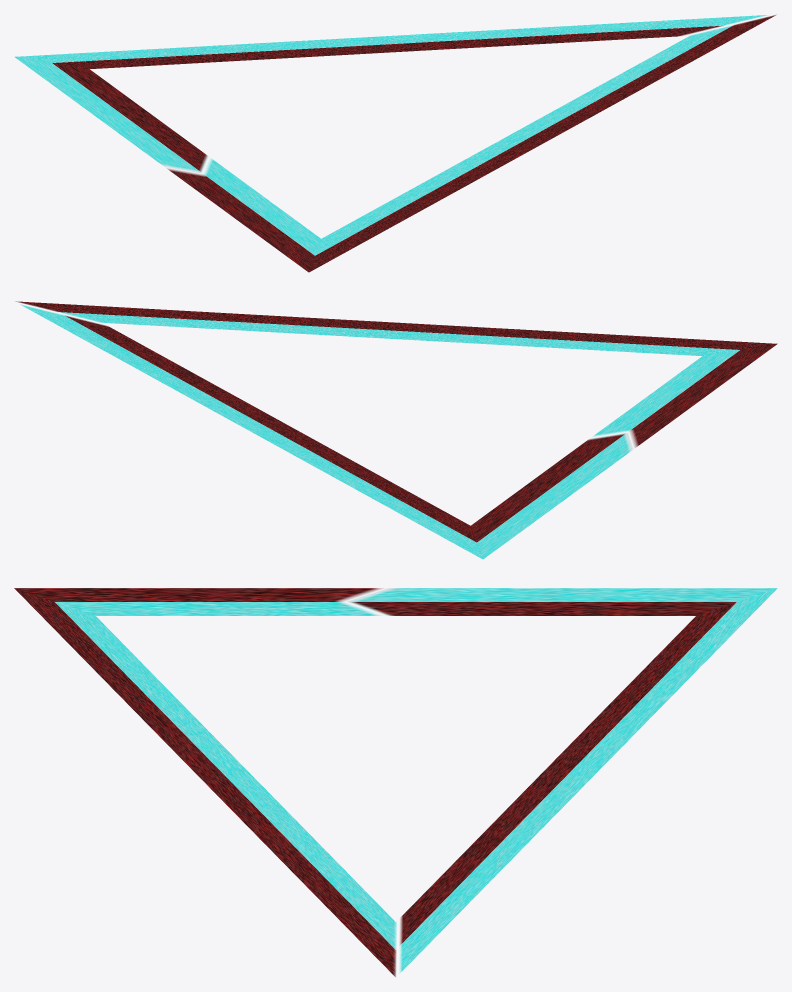
3 views of the same model, one above another, from view 1: azimuth 30°, elevation 25°; view 2: azimuth 150°, elevation 25°; view 3: azimuth 270°, elevation 25° (orthographic). The views are drawn at different scales.
Parts seen in each view (by area): view 1: SM_VFX_TriangleFloors_LOD0; view 2: SM_VFX_TriangleFloors_LOD0; view 3: SM_VFX_TriangleFloors_LOD0.
Part boxes in pixels (box(x1,y1,x2,y2)): SM_VFX_TriangleFloors_LOD0: box(14, 15, 775, 272); SM_VFX_TriangleFloors_LOD0: box(15, 301, 777, 559); SM_VFX_TriangleFloors_LOD0: box(14, 588, 777, 976).
Bounding box in the file's own units: 1.06 × 0 × 0.879.
1 material, 1 textured.
